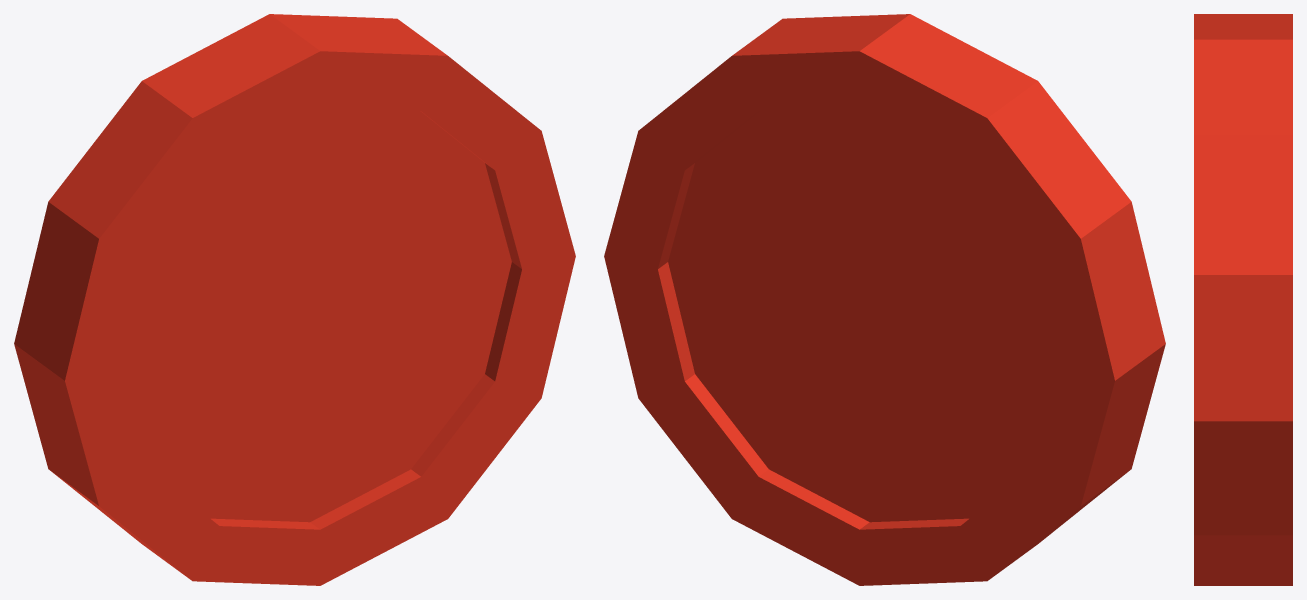
File: Icon_Coin_01.fbx
3 renders of one model, left to right at view 1: azimuth 30°, elevation 25°; view 2: azimuth 150°, elevation 25°; view 3: azimuth 270°, elevation 25°, orthographic. The views are drawn at different scales.
Parts seen in each view (by area): view 1: Icon_Coin_01; view 2: Icon_Coin_01; view 3: Icon_Coin_01.
Part boxes in pixels (x1,y1,x2,y2): Icon_Coin_01: (14, 14, 575, 585); Icon_Coin_01: (604, 14, 1165, 585); Icon_Coin_01: (1194, 14, 1292, 585).
Size of the model in its own units: 70 by 70 by 12.06.
